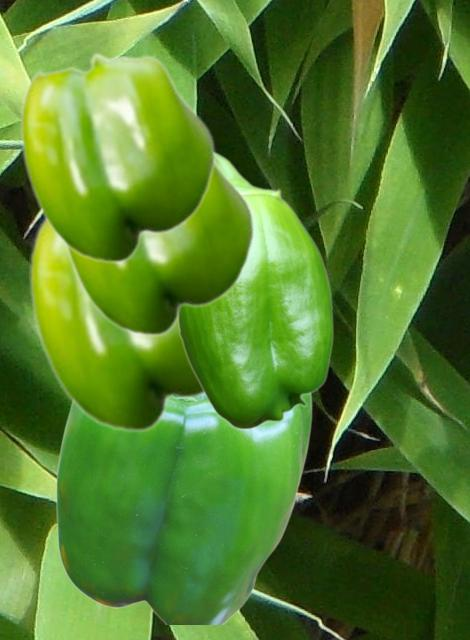bell_pepper: (55, 395, 311, 623), (177, 151, 333, 429), (20, 52, 215, 263), (29, 217, 205, 432), (62, 154, 254, 336)
